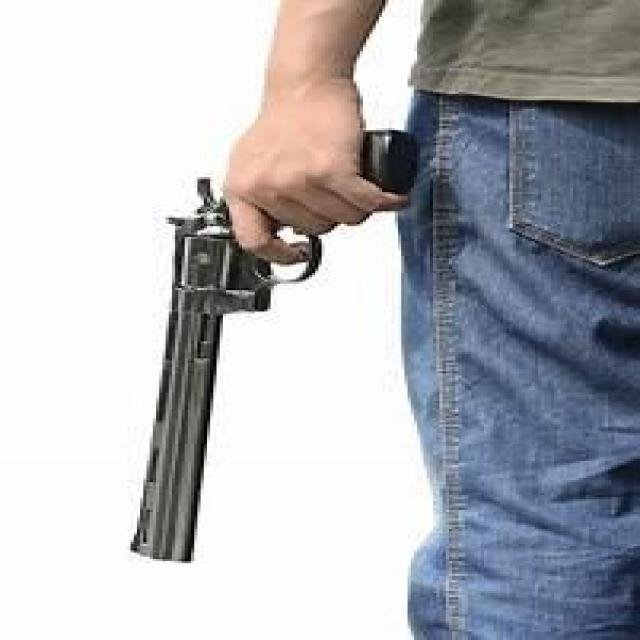Handgun: (108, 124, 342, 522)
